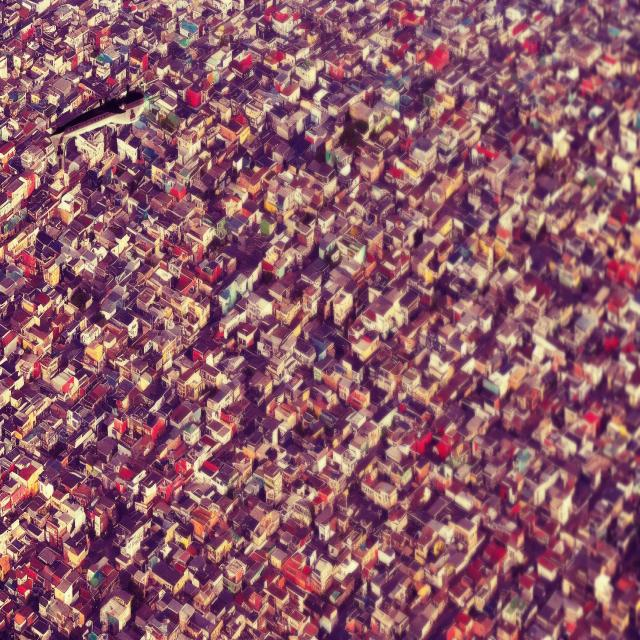airplane: (45, 87, 146, 170)
